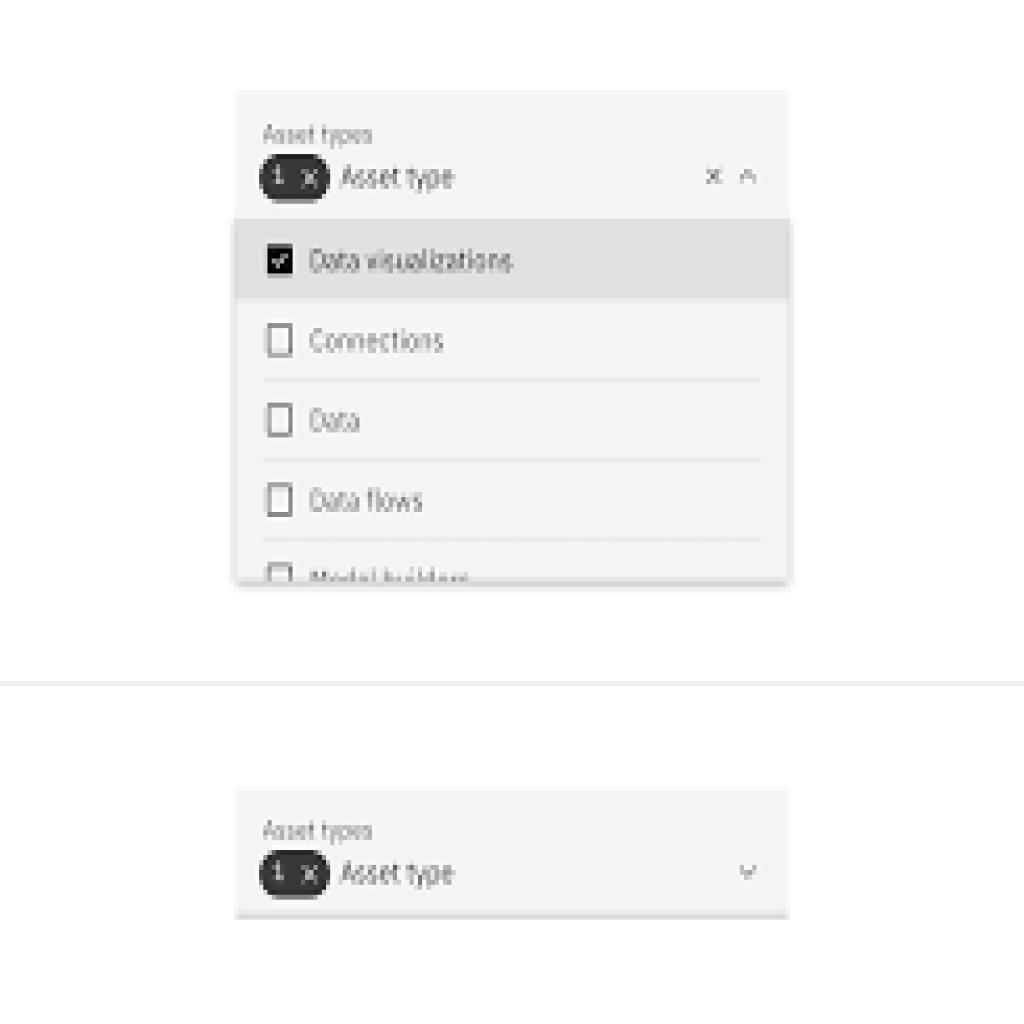checkbox: (269, 404, 291, 439), (270, 323, 293, 355), (271, 482, 291, 516)
icon: (735, 858, 768, 891), (739, 165, 762, 192), (703, 164, 727, 188)
